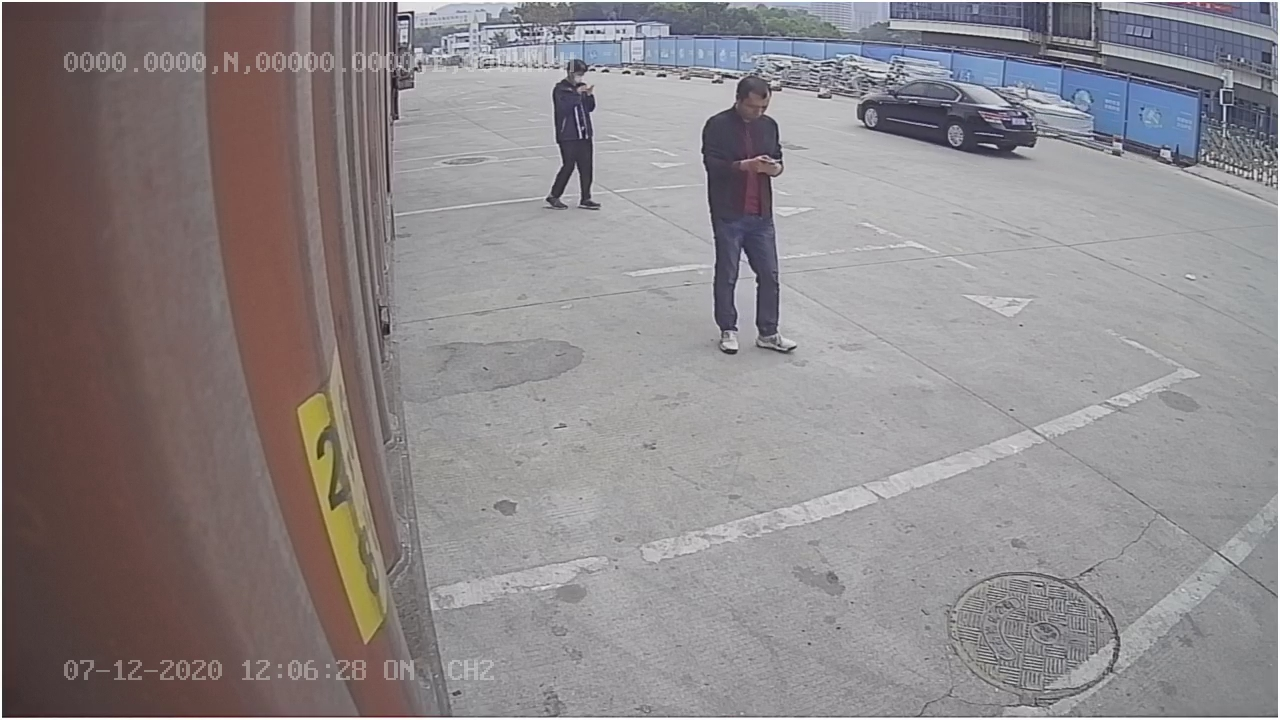person: (697, 74, 797, 358)
